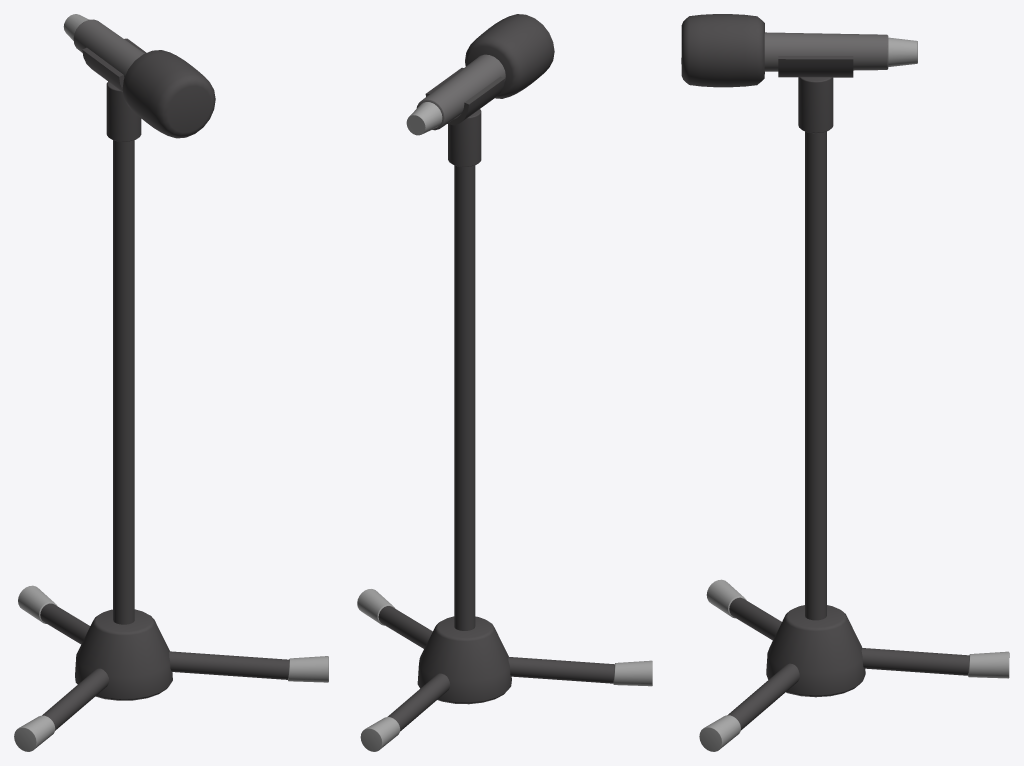
File: mic.fbx
The picture shows the model from 3 angles, left to right: view 1: azimuth 30°, elevation 25°; view 2: azimuth 150°, elevation 25°; view 3: azimuth 270°, elevation 25°; orthographic projection. The views are drawn at different scales.
Parts seen in each view (by area): view 1: mic; view 2: mic; view 3: mic.
Boxes of the visible parts, left/top/right/bottom form: mic: left=14, top=14, right=328, bottom=751; mic: left=357, top=14, right=652, bottom=751; mic: left=681, top=14, right=1009, bottom=751.
Bounding box in the file's own units: 1.18 × 2.36 × 1.07.
